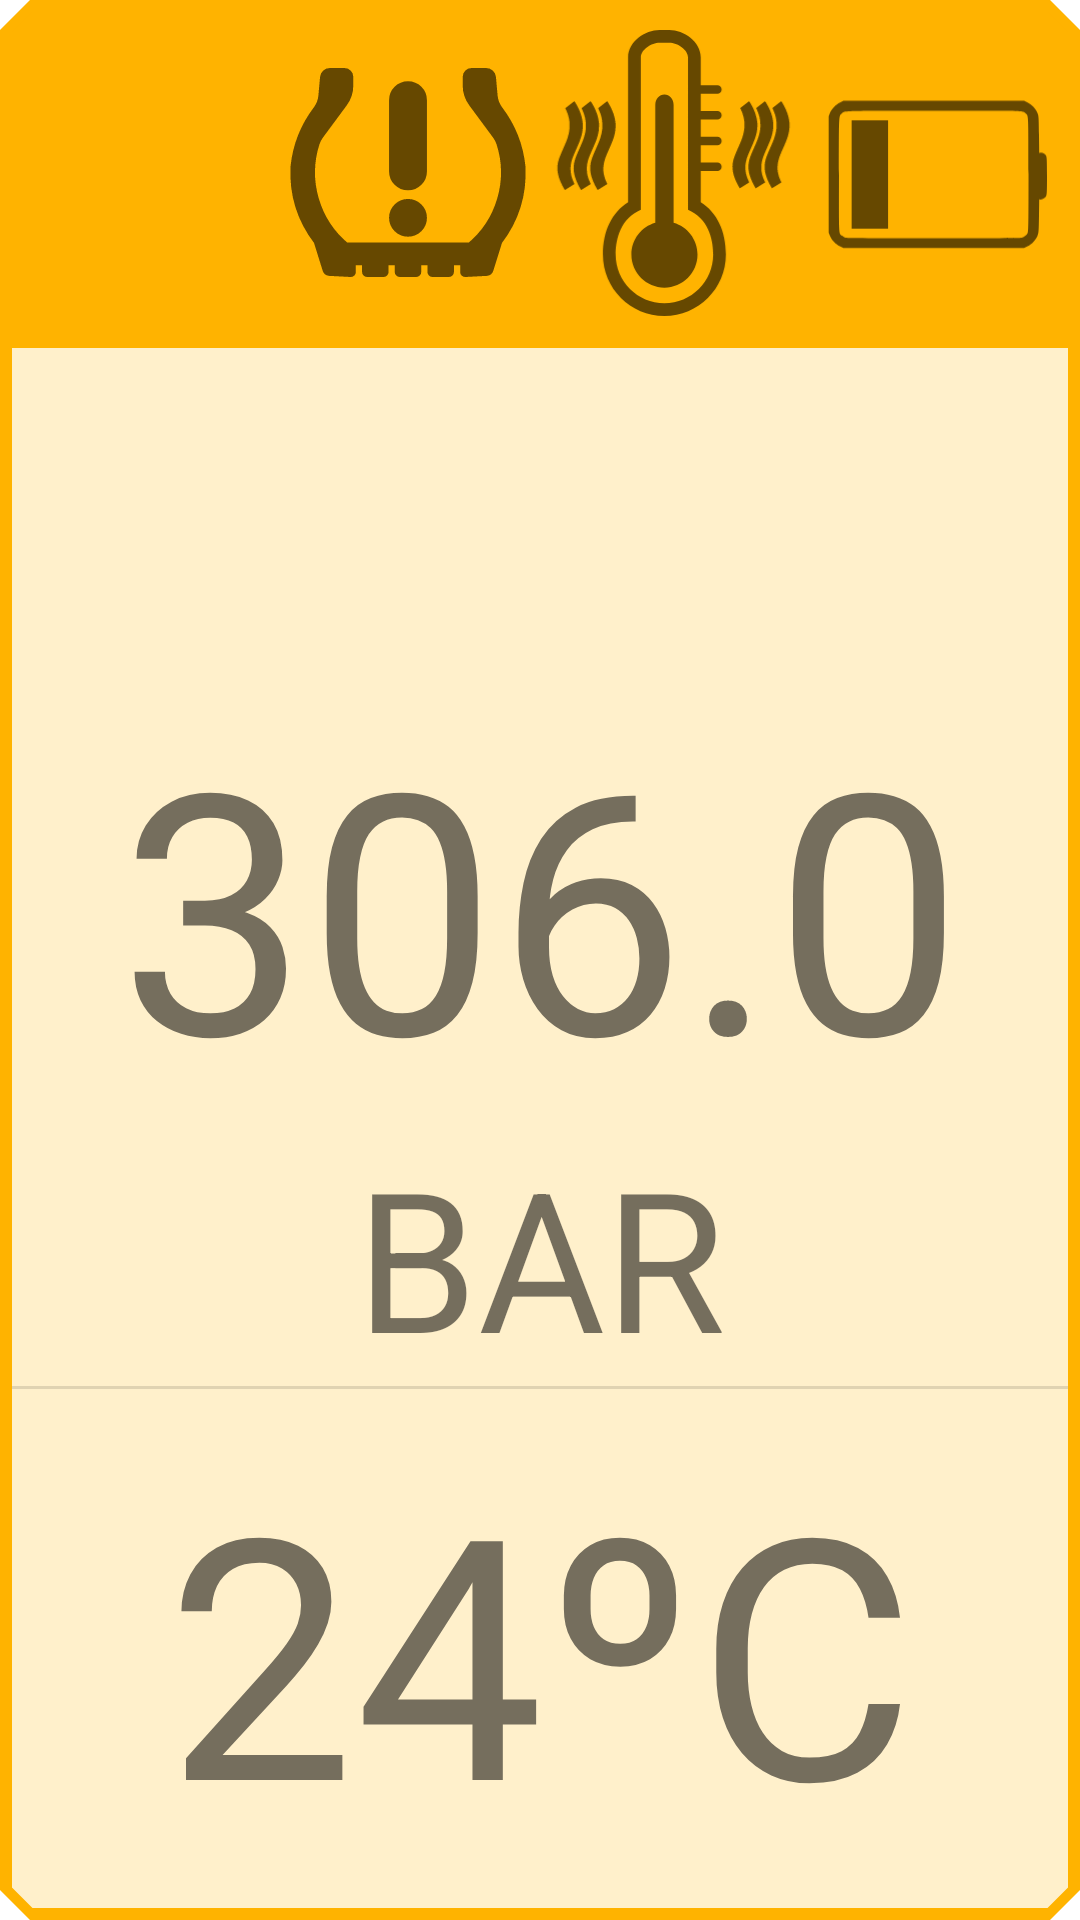

Icon bounding boxes for this 1080 × 1920 phone screenshot, format (x1, y1, x2, y2):
low battery: (828, 100, 1047, 249)
temperature alert: (557, 30, 790, 316)
